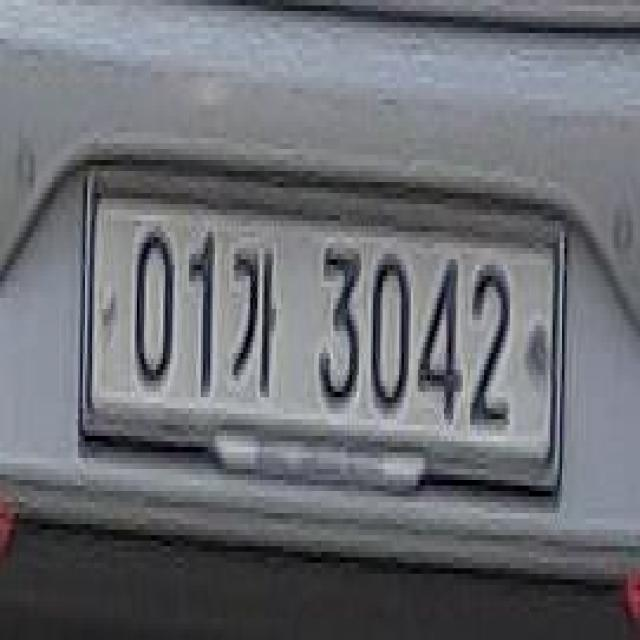illegal_plate: (84, 167, 569, 514)
